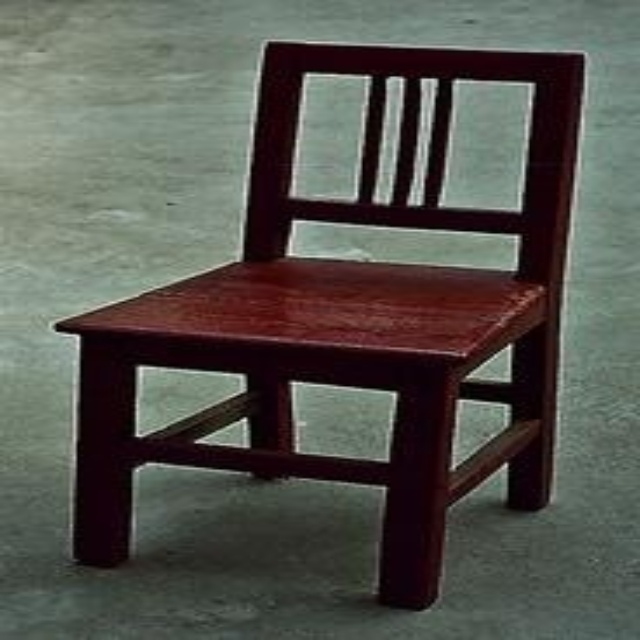obstacle: (56, 42, 581, 607)
